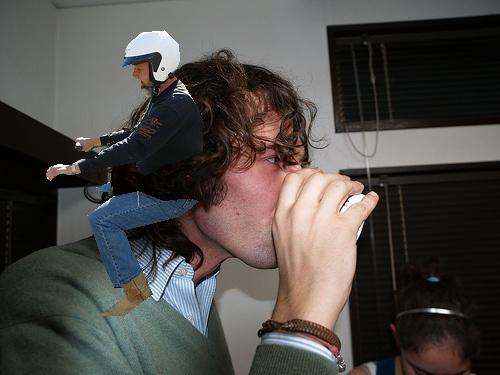tampered: (47, 31, 206, 316)
